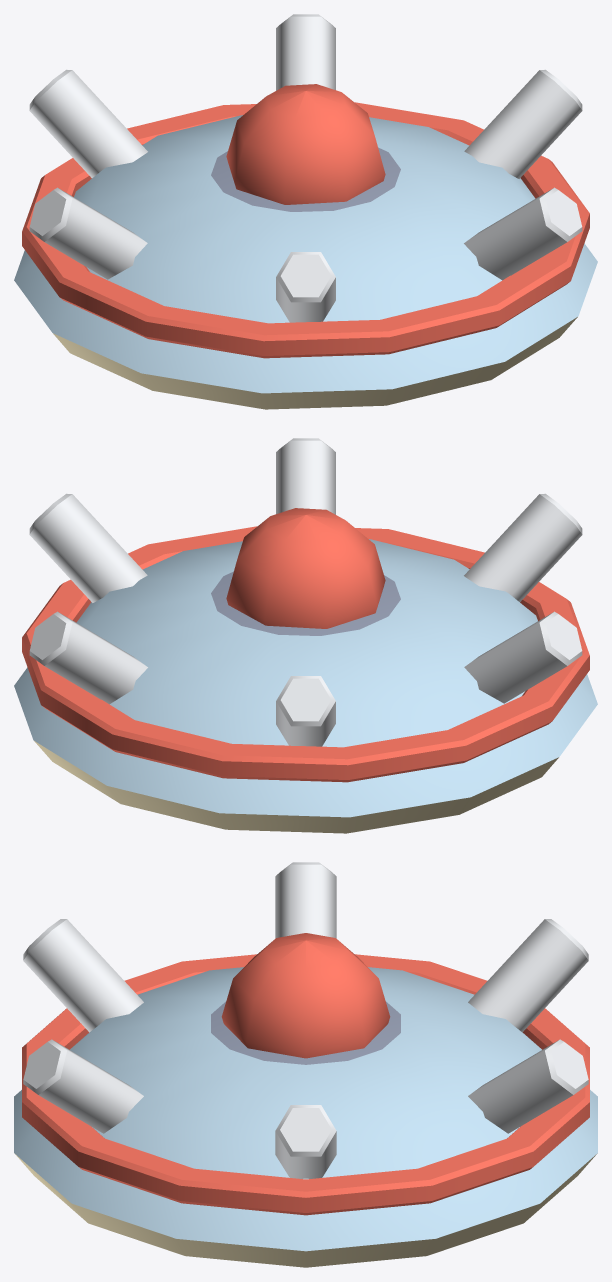
Rendered from R4D_ExplosiveTrap.glb.
3 views of the same model, one above another, from view 1: azimuth 30°, elevation 25°; view 2: azimuth 150°, elevation 25°; view 3: azimuth 270°, elevation 25° (orthographic). The views are drawn at different scales.
Visible parts, largest first — view 1: R4D_ExplosiveTrap_Body, R4D_ExplosiveTrap_Lamp; view 2: R4D_ExplosiveTrap_Body, R4D_ExplosiveTrap_Lamp; view 3: R4D_ExplosiveTrap_Body, R4D_ExplosiveTrap_Lamp.
Part boxes in pixels (<box>): R4D_ExplosiveTrap_Body: <box>14,14,597,409</box>; R4D_ExplosiveTrap_Lamp: <box>226,84,385,204</box>; R4D_ExplosiveTrap_Body: <box>14,438,597,833</box>; R4D_ExplosiveTrap_Lamp: <box>226,508,385,628</box>; R4D_ExplosiveTrap_Body: <box>14,862,597,1267</box>; R4D_ExplosiveTrap_Lamp: <box>221,933,390,1058</box>.
Size of the model in its own units: 0.4577 by 0.166 by 0.4192.
